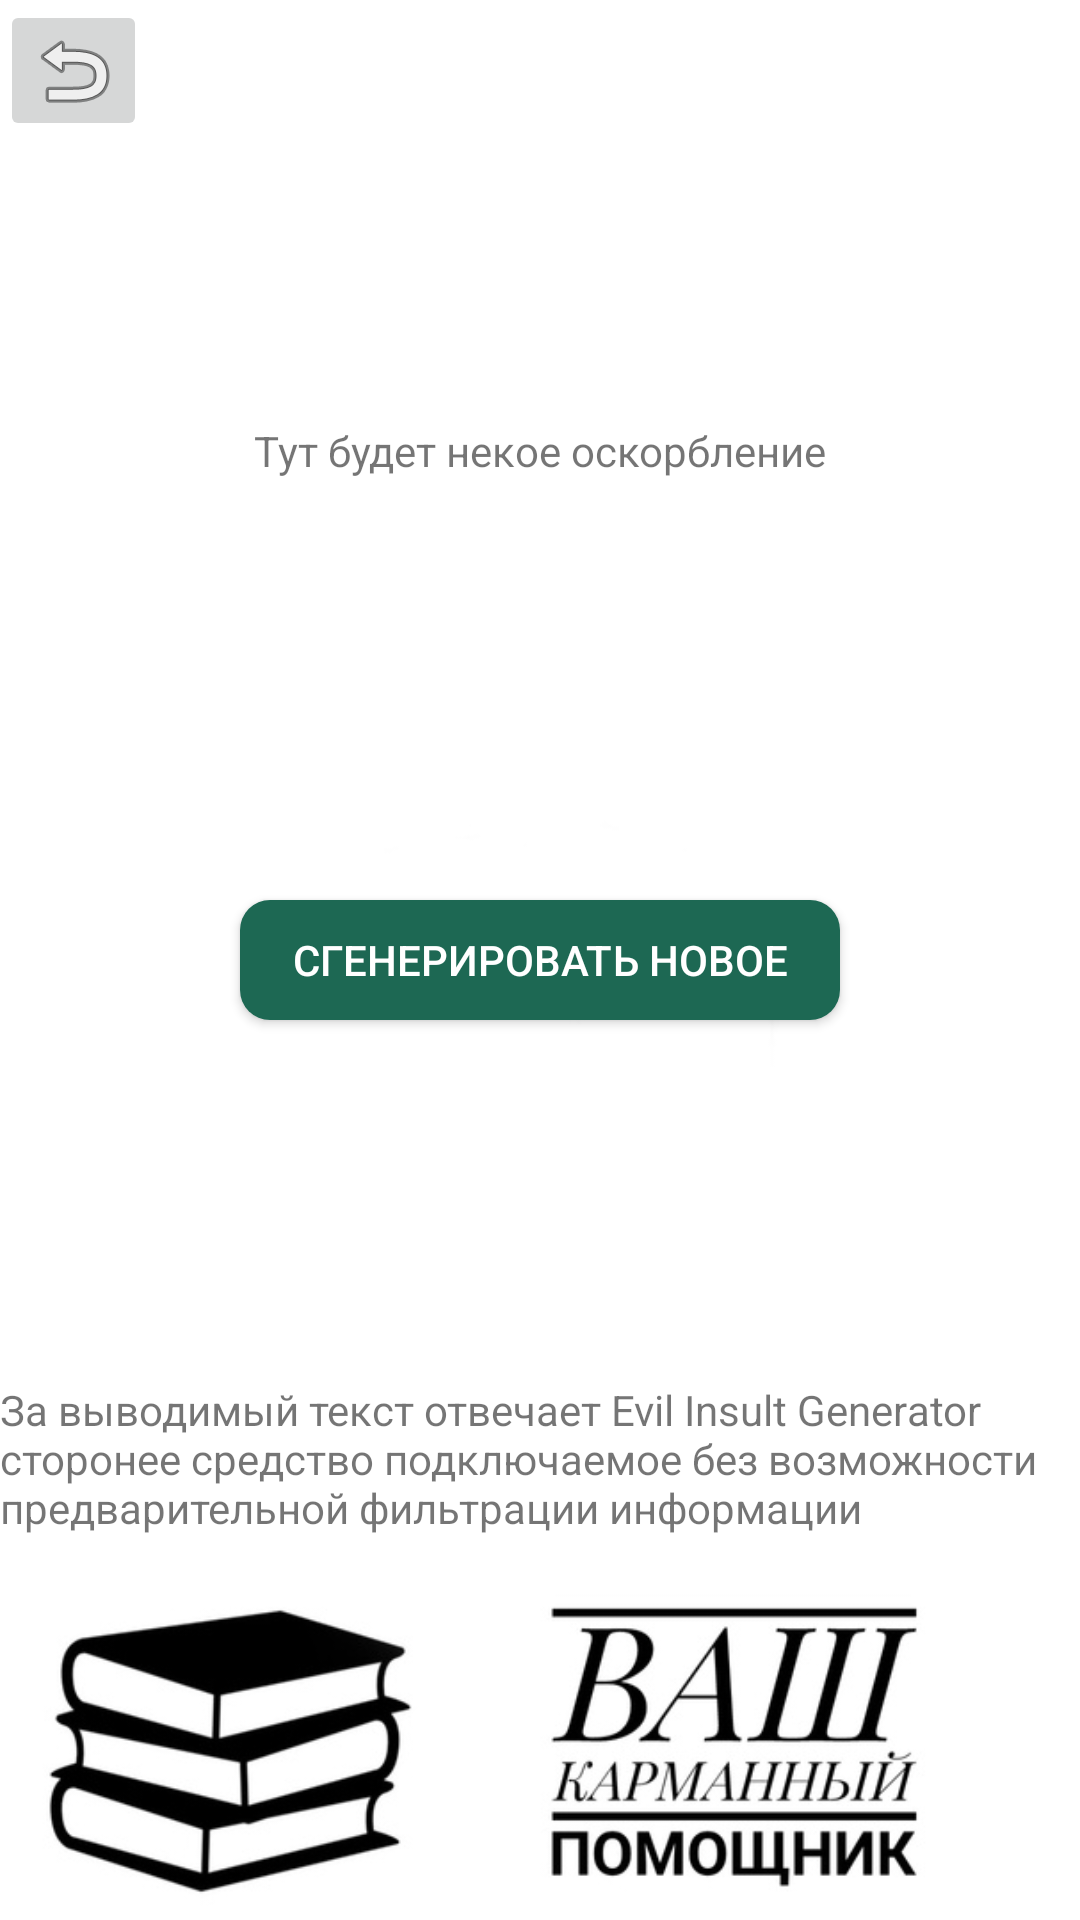

Icons on this 1080 x 1920 Android screen, each with its box as detection(x1, y1, x2, y2):
revert: detection(12, 18, 135, 123)
